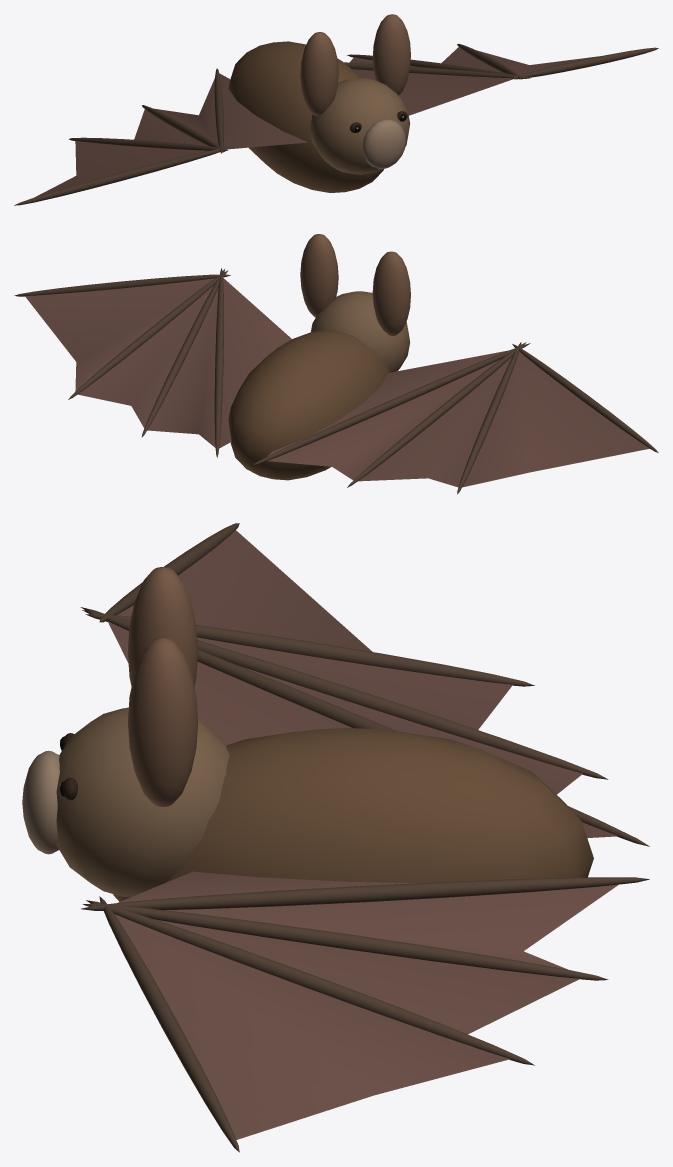
The model's file is roundleaf-bat.glb.
3 views of the same model, one above another, from view 1: azimuth 30°, elevation 25°; view 2: azimuth 150°, elevation 25°; view 3: azimuth 270°, elevation 25° (orthographic). The views are drawn at different scales.
Visible parts, largest first — view 1: body, wing-1, wing1; view 2: wing-1, wing1, body; view 3: wing1, body, wing-1.
Boxes of the visible parts, x1=… form: body: x1=228, y1=32, x2=410, y2=192; wing-1: x1=14, y1=14, x2=410, y2=205; wing1: x1=344, y1=43, x2=658, y2=115; wing-1: x1=251, y1=234, x2=658, y2=494; wing1: x1=14, y1=268, x2=291, y2=457; body: x1=228, y1=251, x2=410, y2=480; wing1: x1=81, y1=871, x2=649, y2=1152; body: x1=22, y1=567, x2=593, y2=901; wing-1: x1=60, y1=523, x2=649, y2=846.
Bounding box in the file's own units: 0.3387 × 0.094 × 0.1429.
